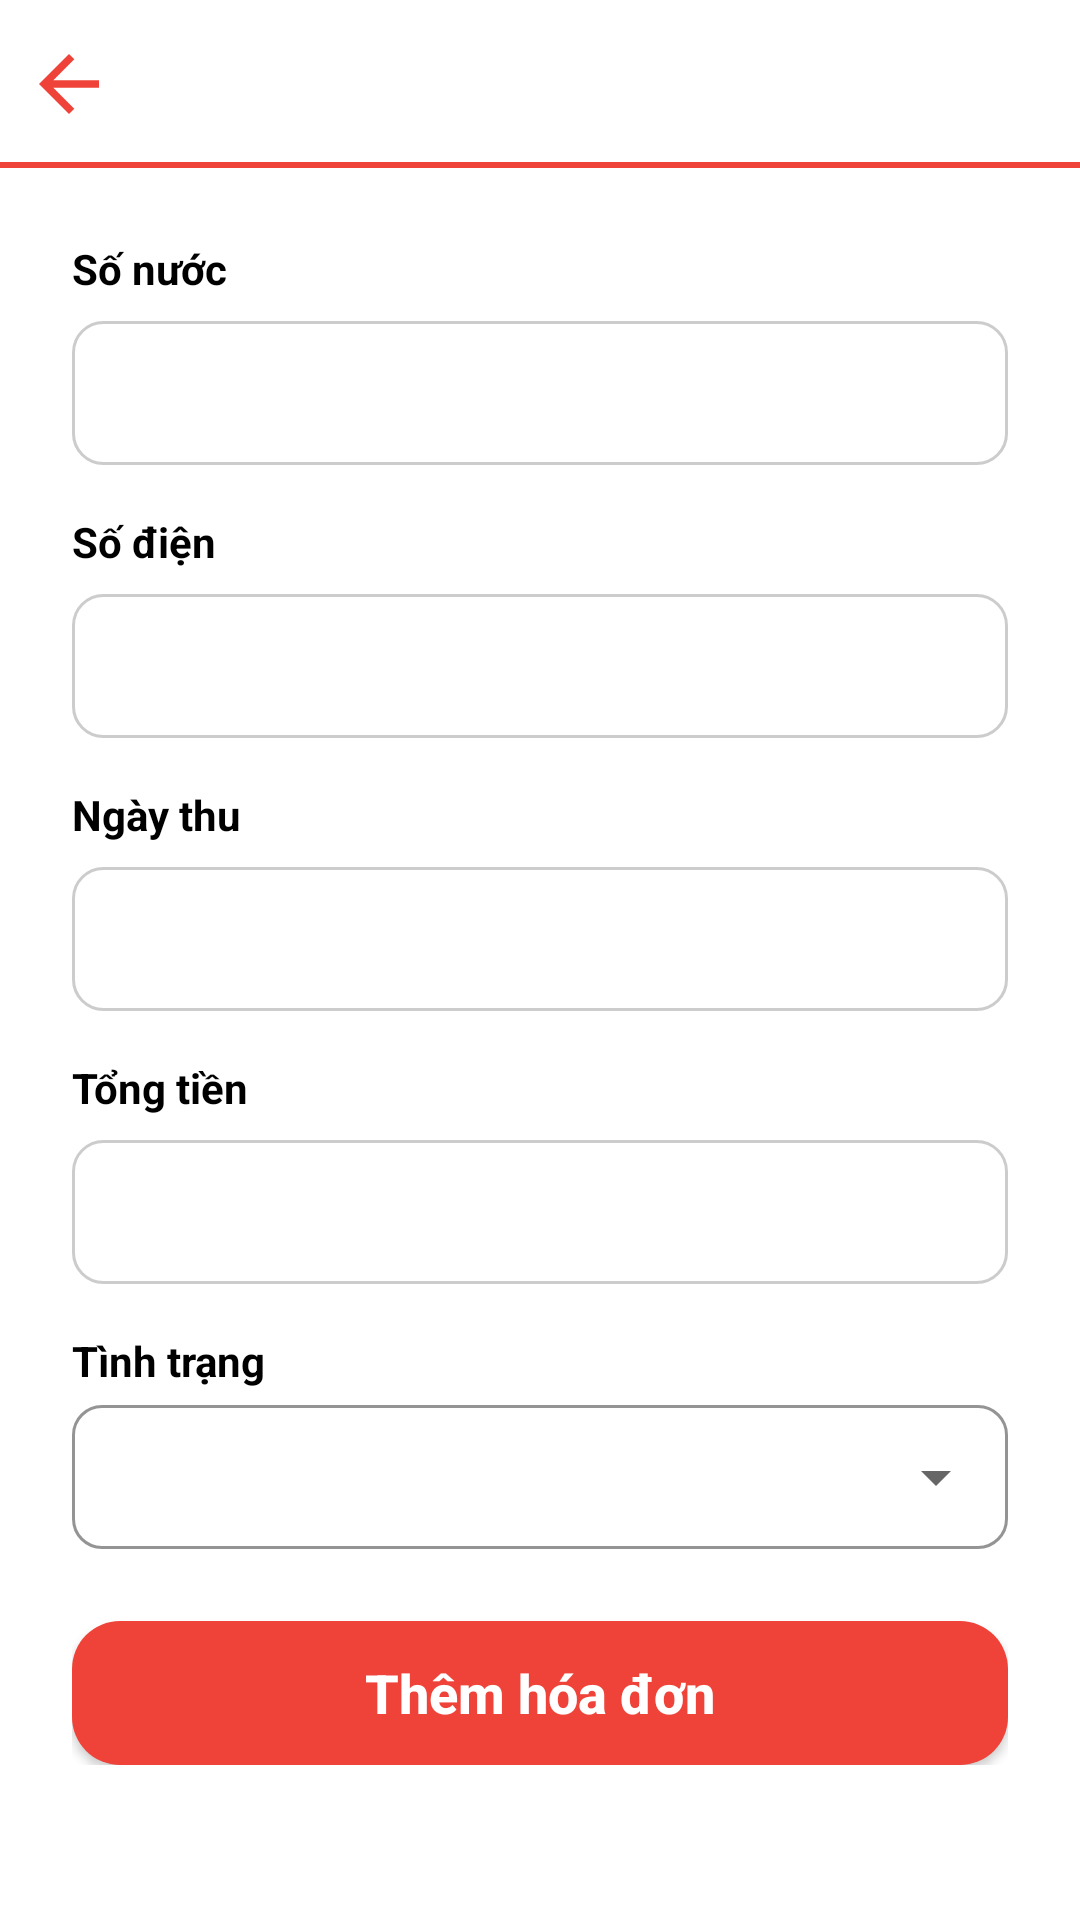

Where to tap for icons on this 1080×1920 app screen, as (x,y):
back: (69,84)
